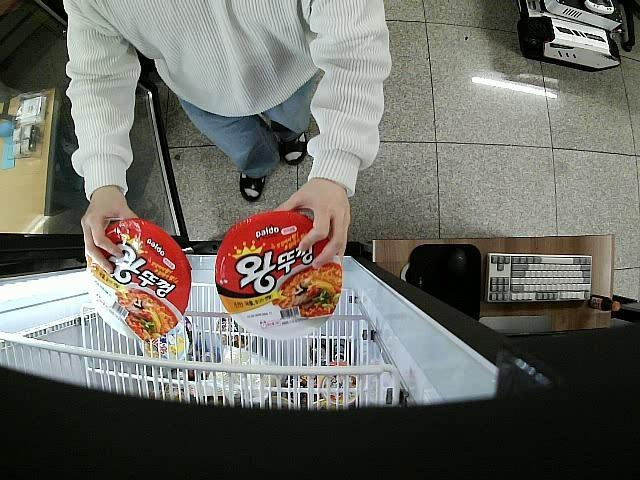10_wangTtukkeong: (216, 210, 343, 340), (84, 220, 193, 341)
